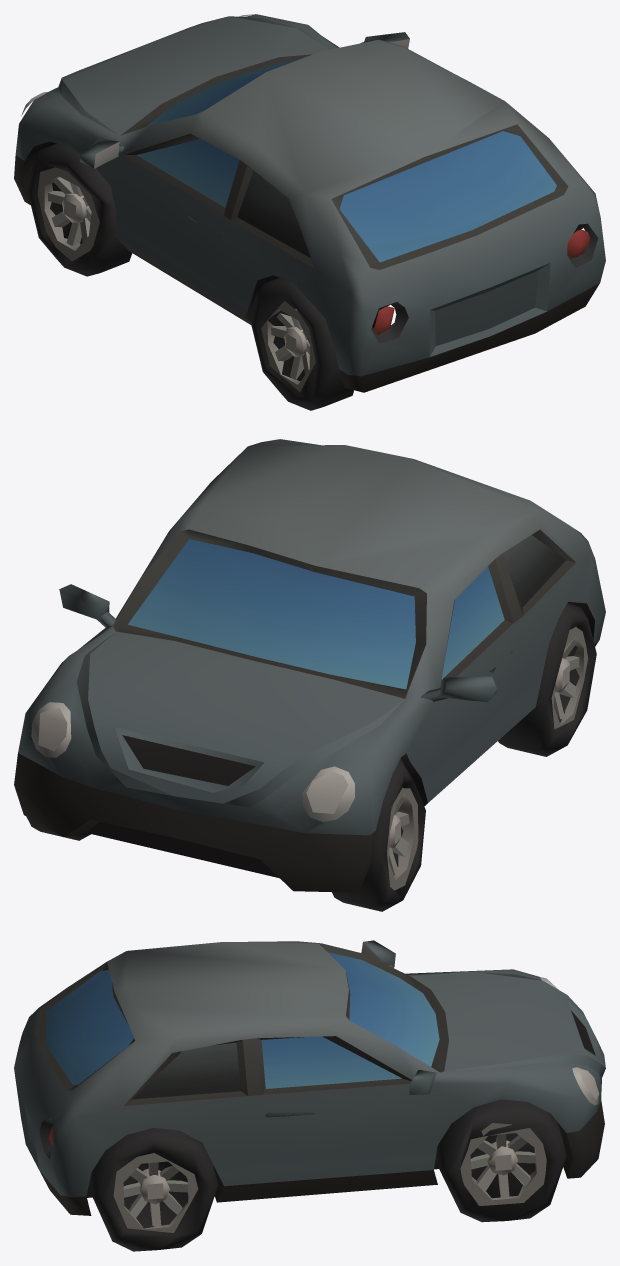
File: wreck_city.glb
3 views of the same model, one above another, from view 1: azimuth 30°, elevation 25°; view 2: azimuth 150°, elevation 25°; view 3: azimuth 270°, elevation 25° (orthographic). The views are drawn at different scales.
Parts seen in each view (by area): view 1: body_mesh; view 2: body_mesh; view 3: body_mesh.
Boxes of the visible parts, left/top/right/bottom form: body_mesh: left=14, top=14, right=605, bottom=410; body_mesh: left=14, top=439, right=605, bottom=911; body_mesh: left=14, top=940, right=605, bottom=1251.
Size of the model in its own units: 2.74 by 1.64 by 4.02.
2 materials, 2 textured.
